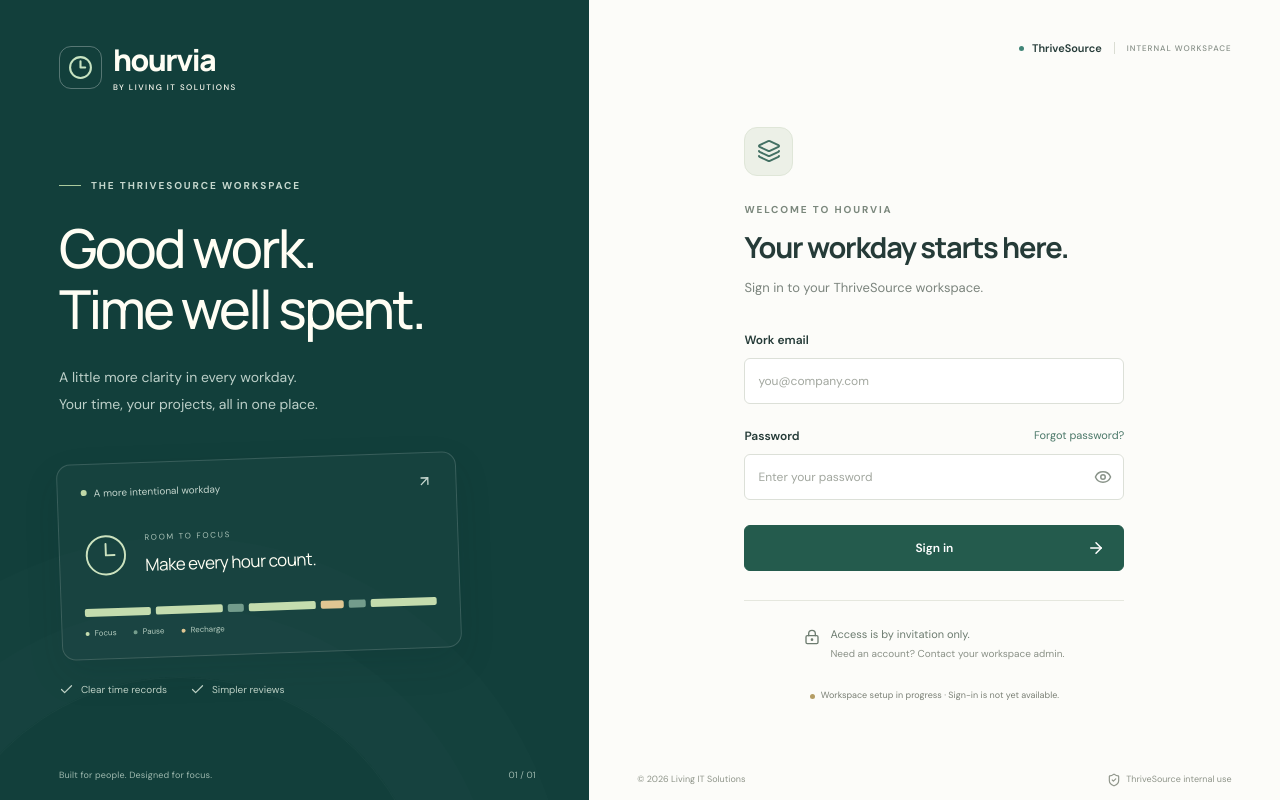
routing and login › redirects root to login and validates the form
The image size is (1280, 800).
Expected: the heading "Your workday starts here." is shown, [744,228,1124,266]
Step 1. Click the button "Sign in" → (934,548), box [744,525,1124,571]
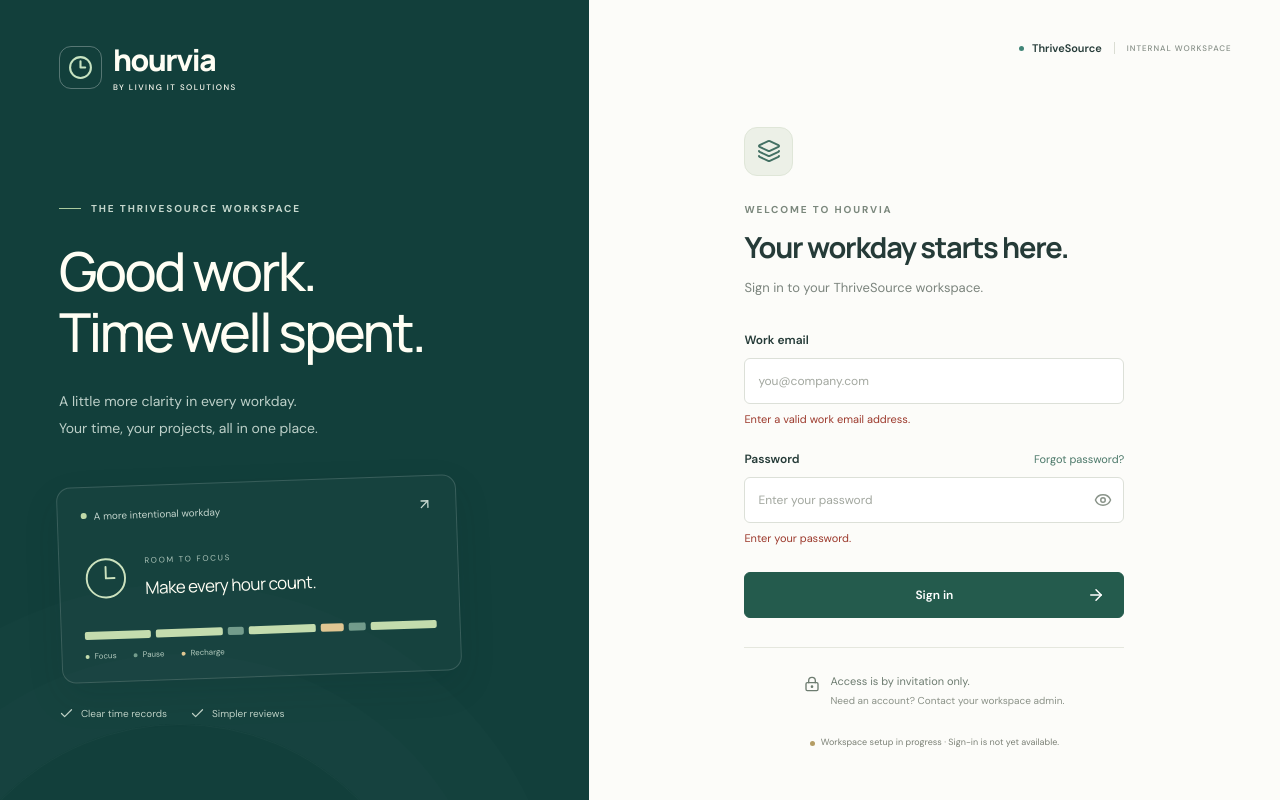
Expected: the text "Enter a valid work email address." is shown, [744,412,910,426]
Expected: the text "Enter your password." is shown, [744,531,851,545]
